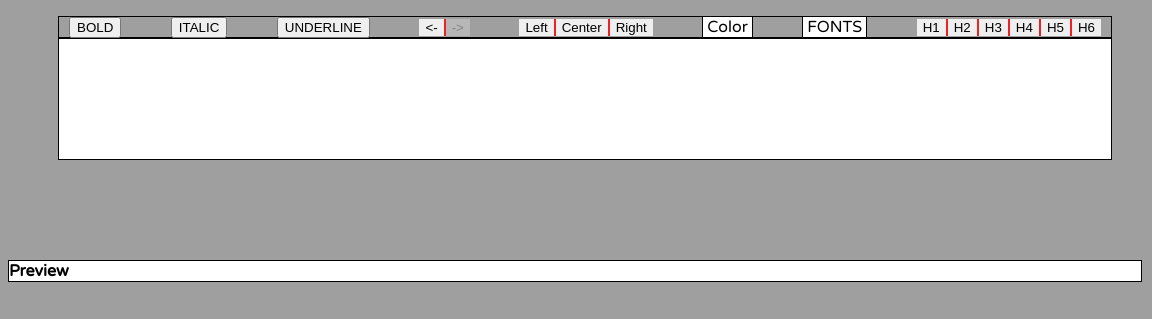
Test case: Text Editor › should update preview when typing in the text editor
Type "Hello, Cypress!" into the text box with test id "text-editor-container" at (585, 99), box x1=58 y1=38 x2=1112 y2=160
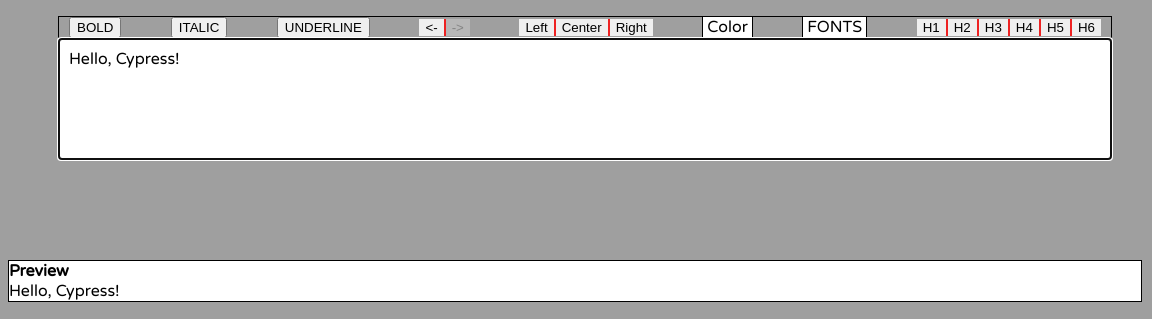
Expected: the text with test id "text-editor-preview" reads "Hello, Cypress!", x1=9 y1=281 x2=120 y2=301
